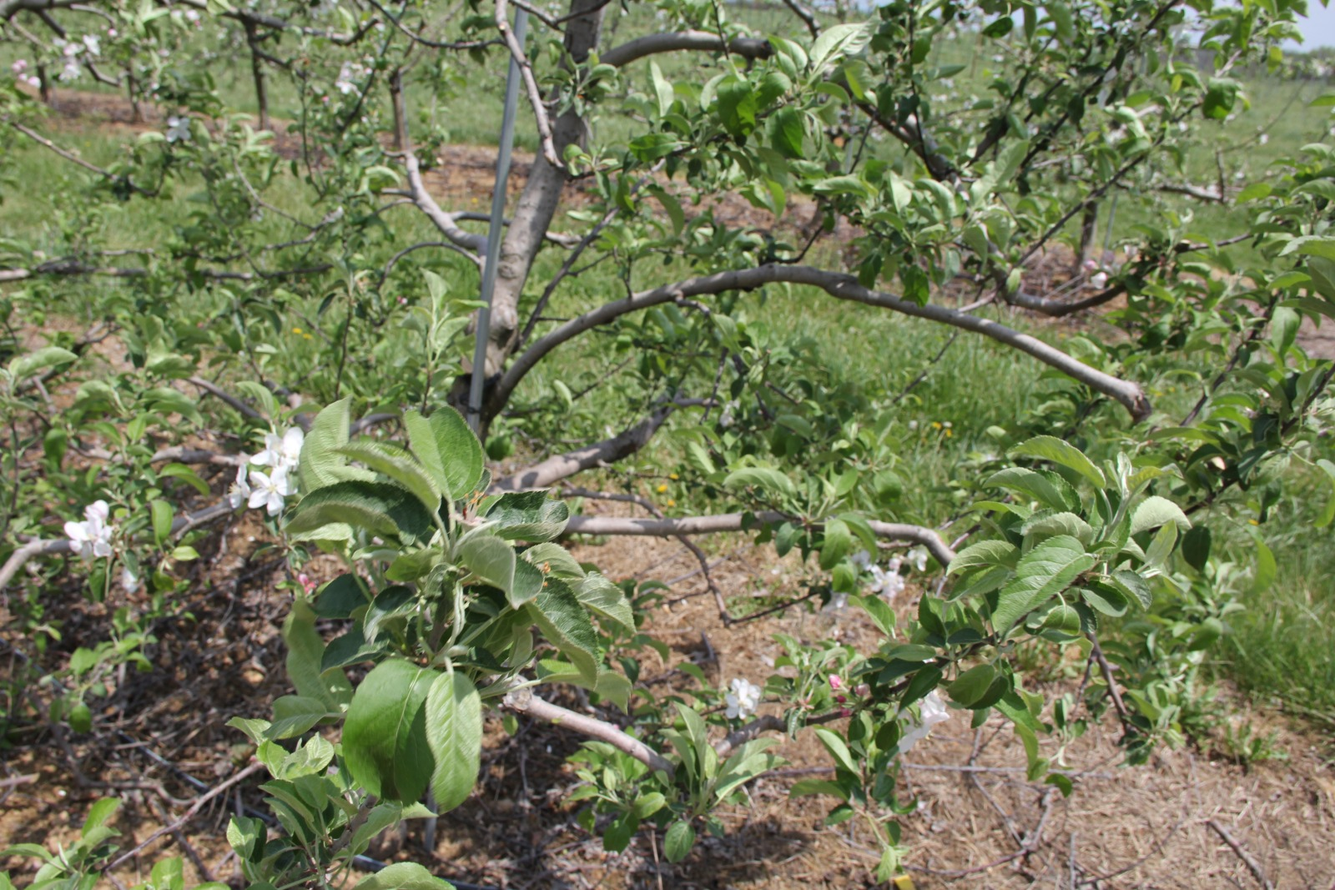flower: (224, 428, 305, 511), (898, 690, 950, 753), (64, 500, 115, 561), (726, 678, 763, 720), (868, 565, 904, 598), (166, 117, 191, 143)
